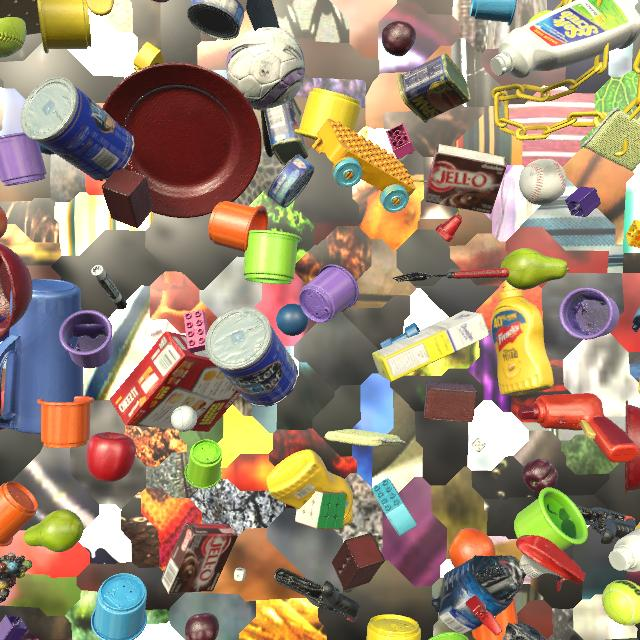ycb_002_master_chef_can: (20, 77, 134, 181), (205, 307, 298, 407)
ycb_003_cracker_box: (110, 331, 240, 432)
ycb_004_sugar_box: (372, 311, 489, 382)
ycb_006_mustard_bottle: (491, 281, 554, 396), (266, 449, 353, 525), (635, 522, 640, 530)
ycb_007_tuna_fish_can: (267, 154, 314, 208), (187, 0, 244, 40)
ycb_008_pudding_box: (424, 144, 507, 214), (161, 523, 238, 594)
ycb_010_potted_meat_can: (397, 53, 471, 123), (263, 98, 308, 165)
ycb_013_apple: (87, 432, 136, 482)
ycb_016_pear: (501, 248, 569, 290), (24, 509, 84, 552)
ycb_017_orange: (448, 528, 496, 568), (0, 207, 8, 238)
ycb_018_plum: (522, 459, 558, 493), (382, 21, 416, 56), (185, 613, 219, 640)
